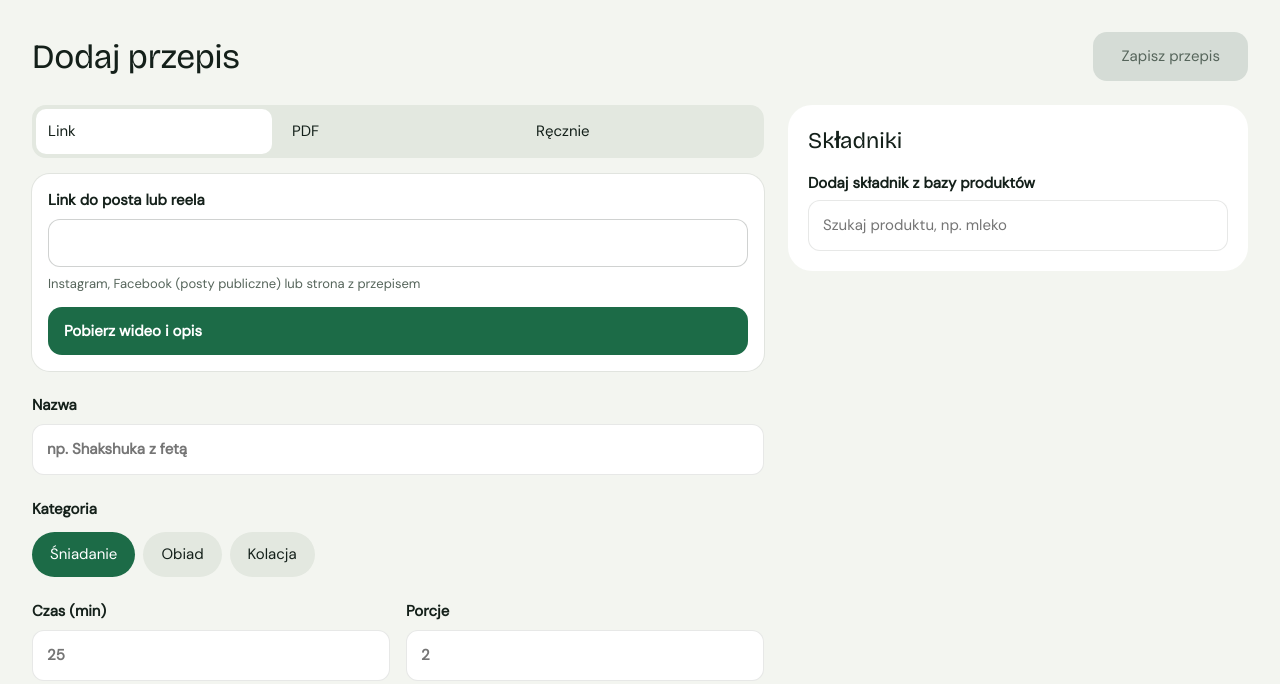
Test: oba stany mają tekst, wyróżnienie wiersza i nazwane przyciski; niezgodna jednostka czeka
Expected: the button "Pobierz wideo i opis" is shown, [48,307,748,355]
In the field labelled "Link do posta lub reela": (398, 243) [48,219,748,267], type "https://recipes.example/zupa"
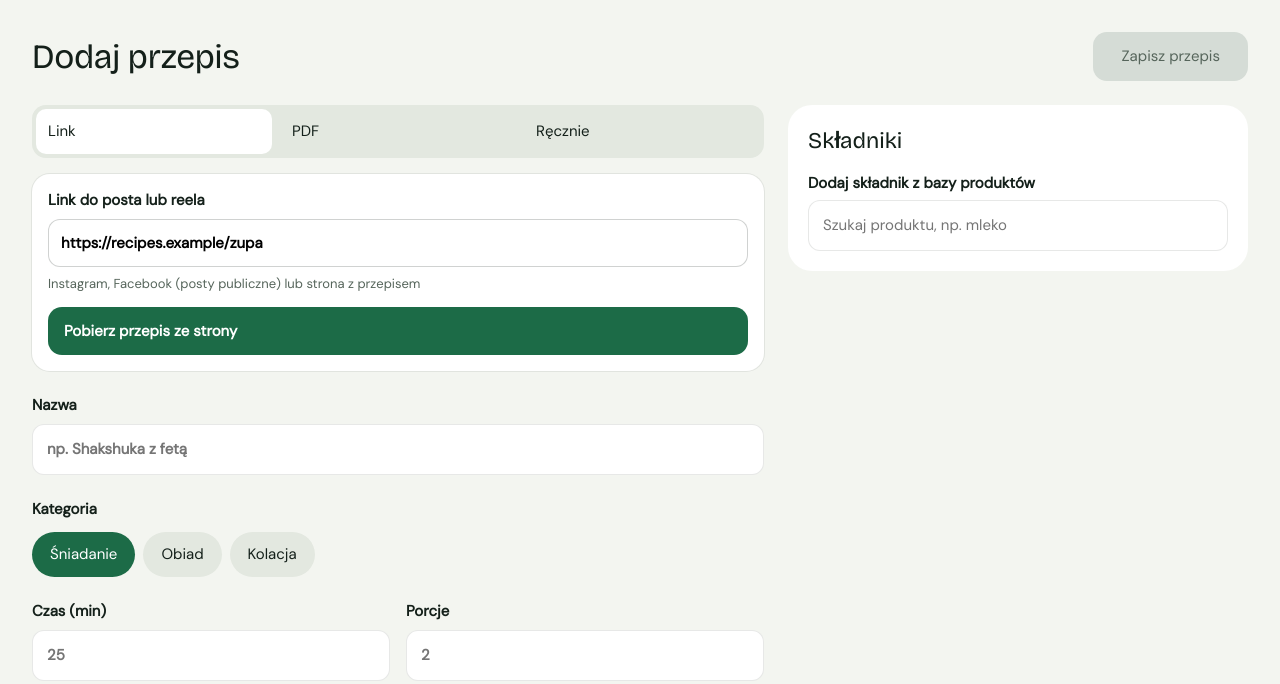
Click the button "Pobierz przepis ze strony": (151, 331) [48,307,748,355]
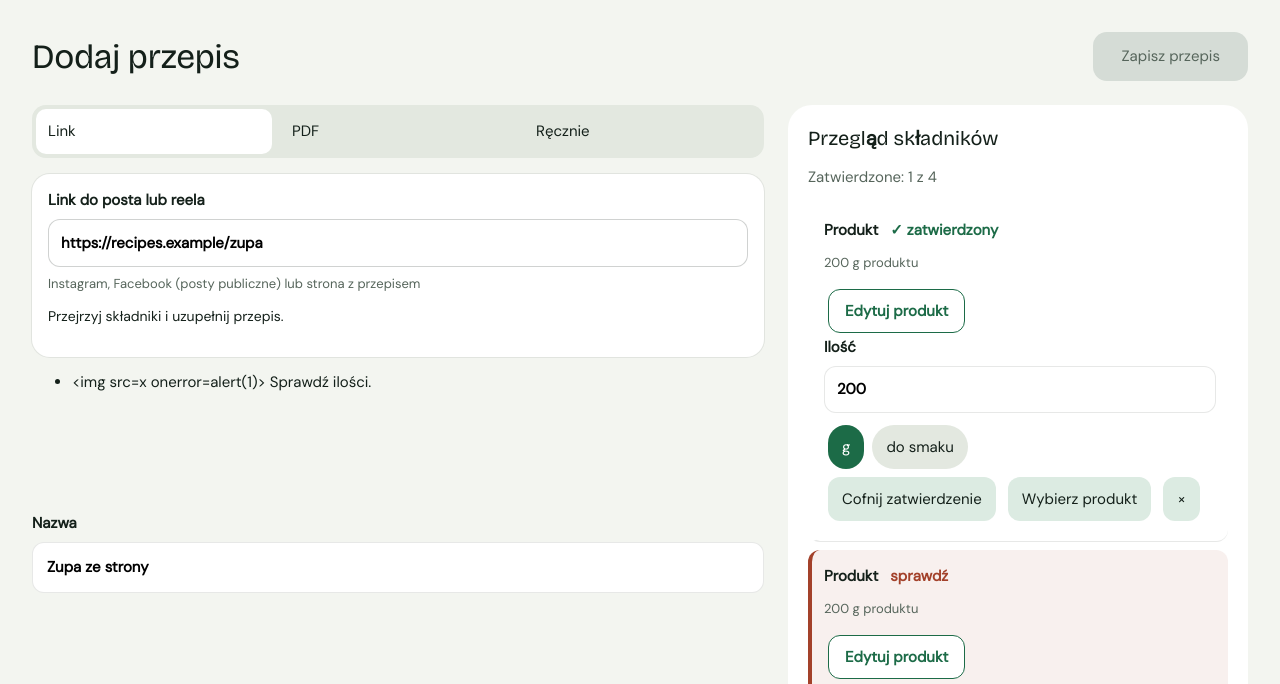
Expected: the heading "Przegląd składników" is shown, [808,126,998,150]
Expected: the text "Zatwierdzone: 1 z 4" is shown, [808,167,937,187]
Expected: the text "✓ zatwierdzony" is shown, [890,220,998,240]
